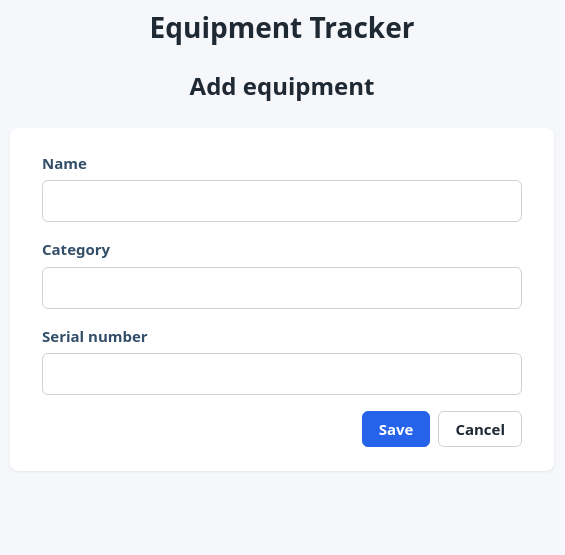
it: App equipment list › shows a visible error when saving new equipment fails
The width and height of the screenshot is (565, 555).
In the field labelled "Name": {"x": 282, "y": 201} [42,180,522,222], type "Laptop"
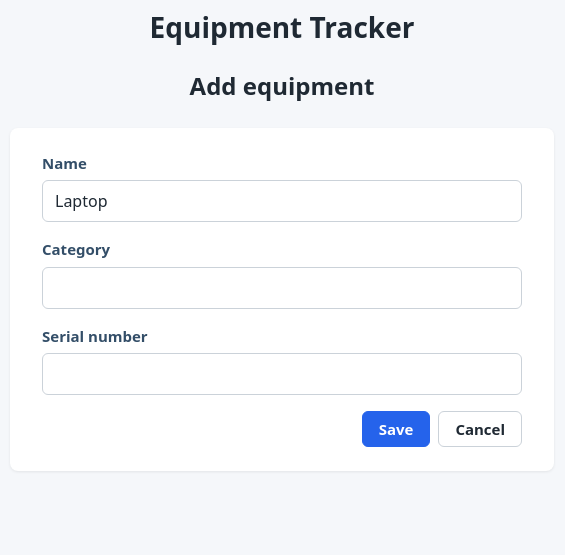
In the field labelled "Category": {"x": 282, "y": 288} [42,267,522,309], type "Laptop"
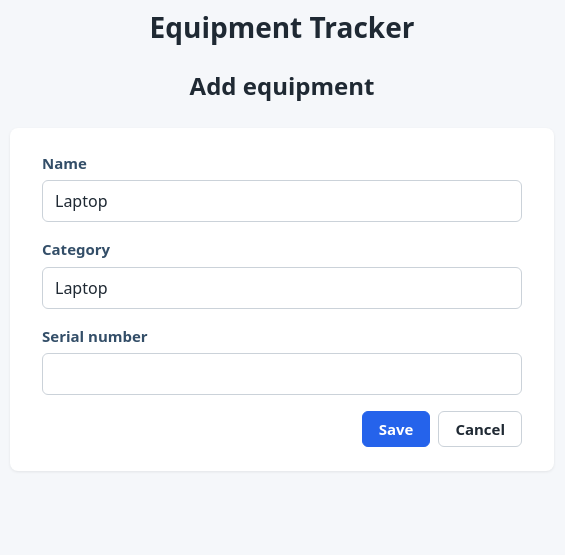
Click the button "Save": {"x": 396, "y": 429} [362,411,430,447]
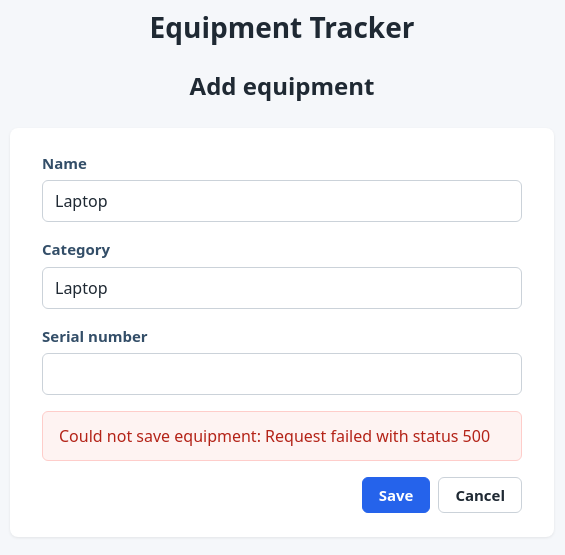
Check: the text "Could not save equipment: Request failed with status 500" is shown, box [42,411,522,461]
